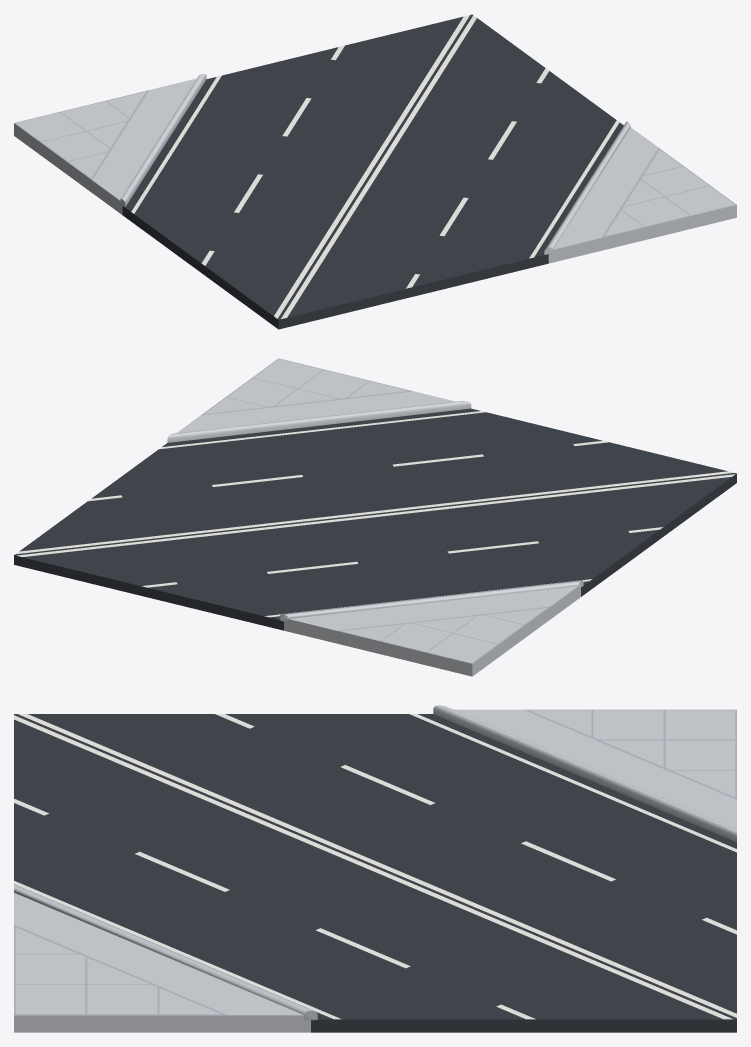
File: avenida_diagonal.glb
3 renders of one model, top to bottom at view 1: azimuth 30°, elevation 25°; view 2: azimuth 150°, elevation 25°; view 3: azimuth 270°, elevation 25°, orthographic. The views are drawn at different scales.
Visible parts, largest first — view 1: avenida_diagonal; view 2: avenida_diagonal; view 3: avenida_diagonal.
Boxes of the visible parts, x1,y1,x2,y2 form: avenida_diagonal: [14, 14, 736, 329]; avenida_diagonal: [14, 358, 736, 676]; avenida_diagonal: [14, 705, 736, 1032].
Bounding box in the file's own units: 15 × 0.5 × 15.
Materials: 1 (1 with a texture image).
